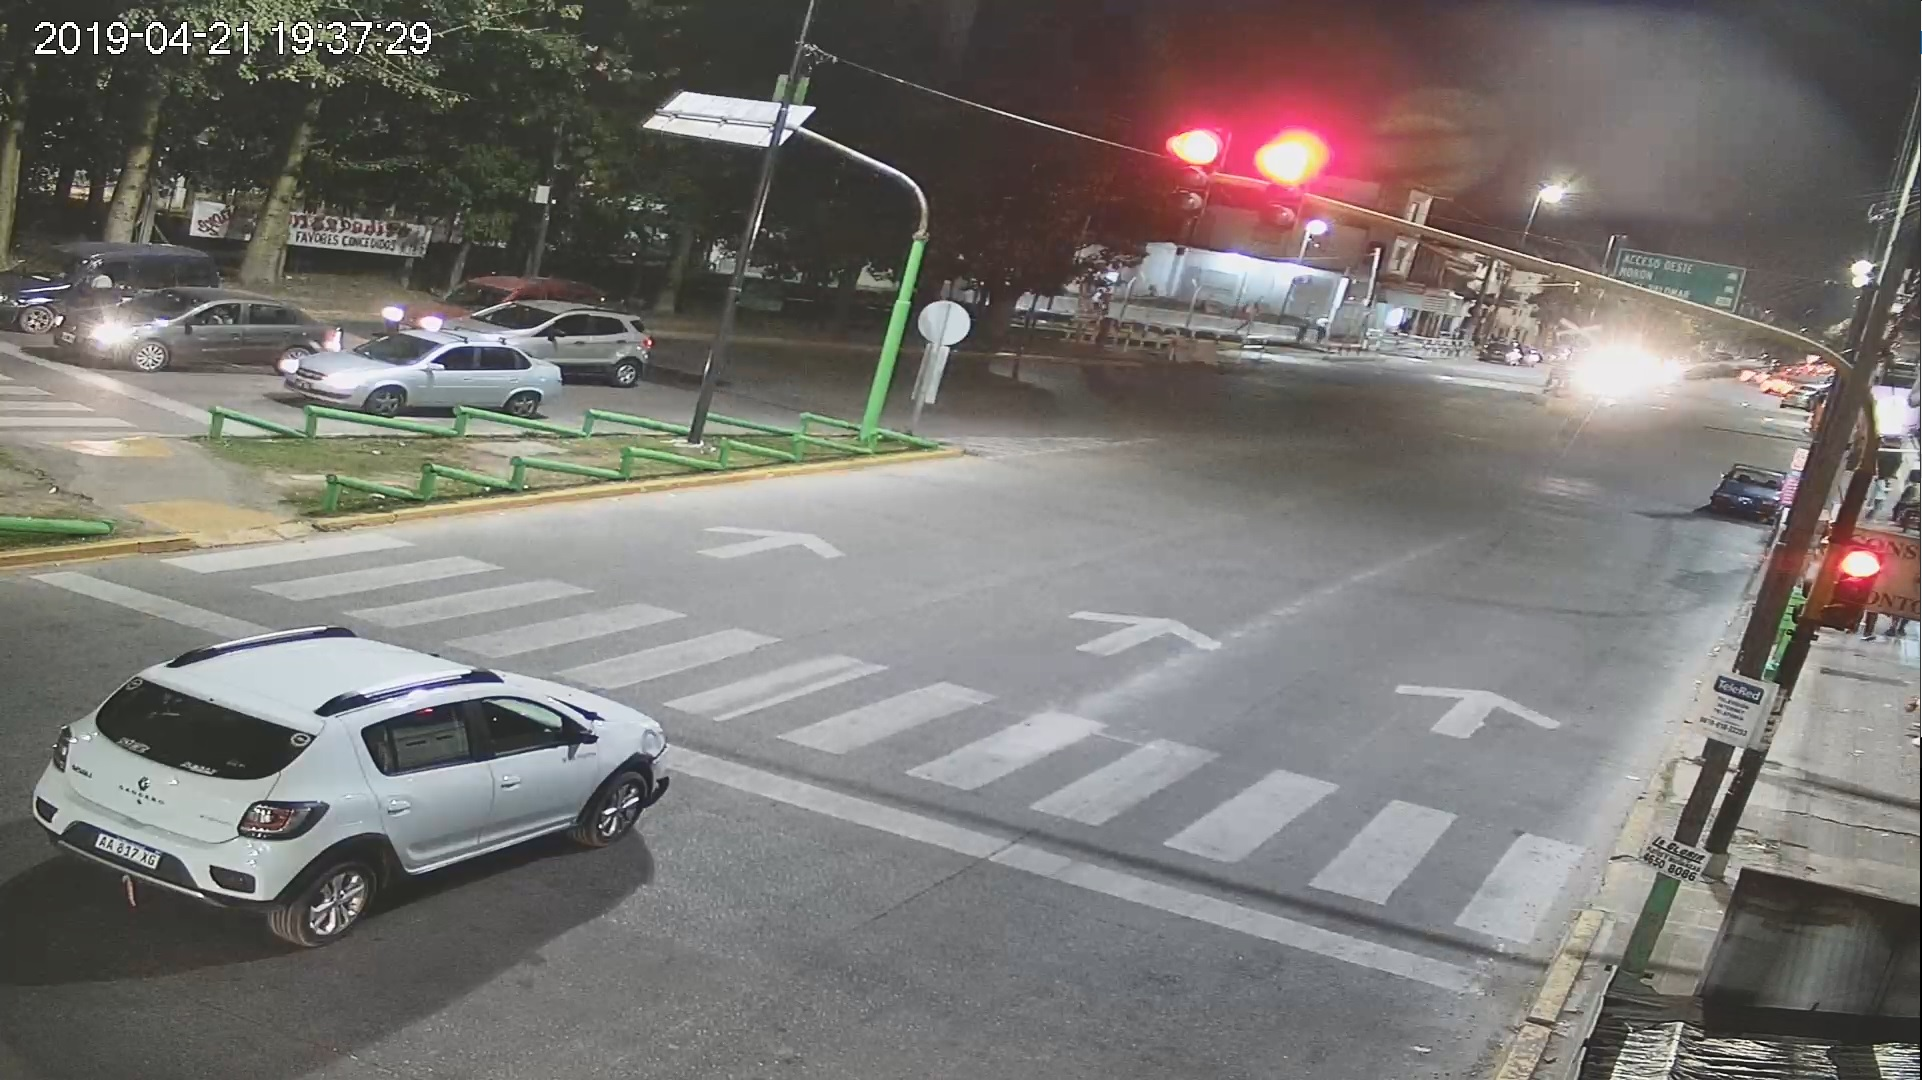car: (33, 601, 671, 951), (282, 327, 560, 433), (57, 292, 323, 371), (1717, 456, 1793, 519)
